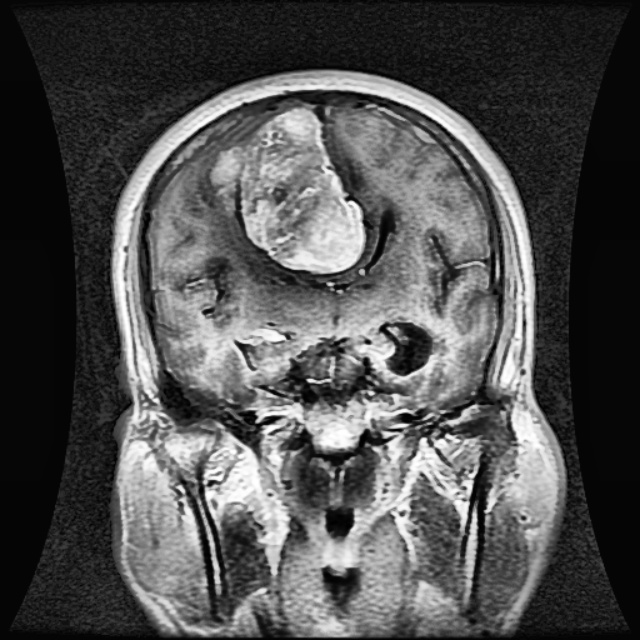Glioma: (208, 107, 365, 273)
